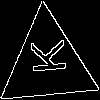K: (22, 38, 66, 76)
